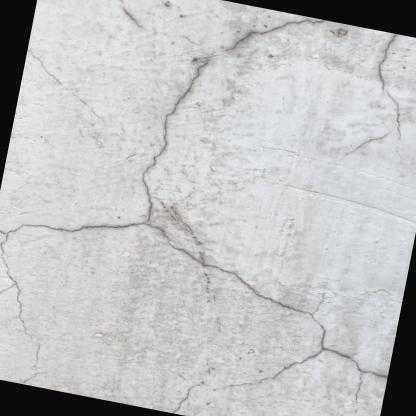crack: (0, 0, 388, 408), (26, 40, 109, 125), (374, 32, 406, 140), (342, 128, 392, 157), (166, 380, 203, 414)
